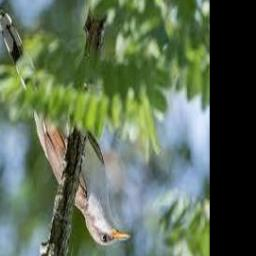Cuckoo: (0, 10, 131, 246)
